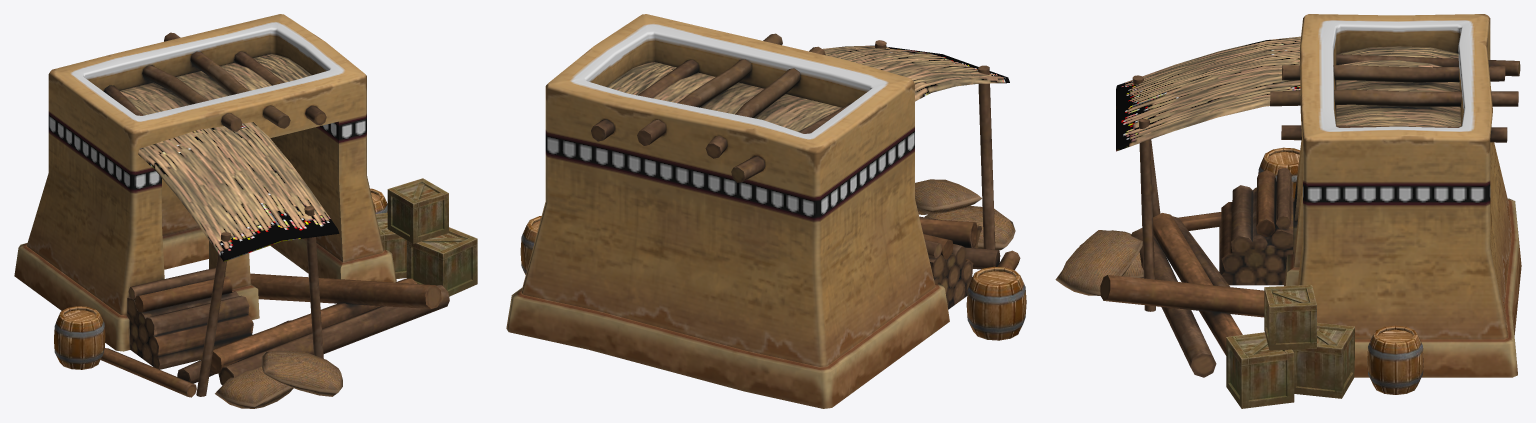
File: 17-lumbercamp.glb
3 renders of one model, left to right at view 1: azimuth 30°, elevation 25°; view 2: azimuth 150°, elevation 25°; view 3: azimuth 270°, elevation 25°, orthographic. The views are drawn at different scales.
Size of the model in its own units: 5.43 by 2.94 by 5.03.
4 materials, 4 textured.
